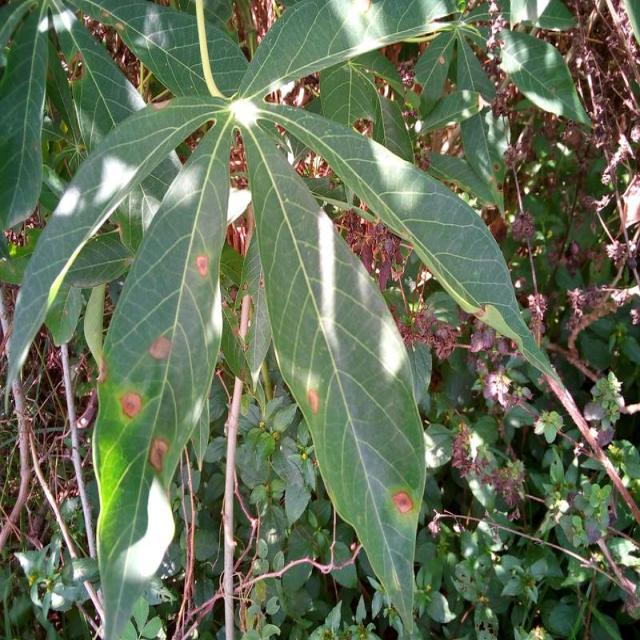cassava leaf: (4, 1, 554, 637), (242, 113, 428, 636), (91, 104, 235, 638)
